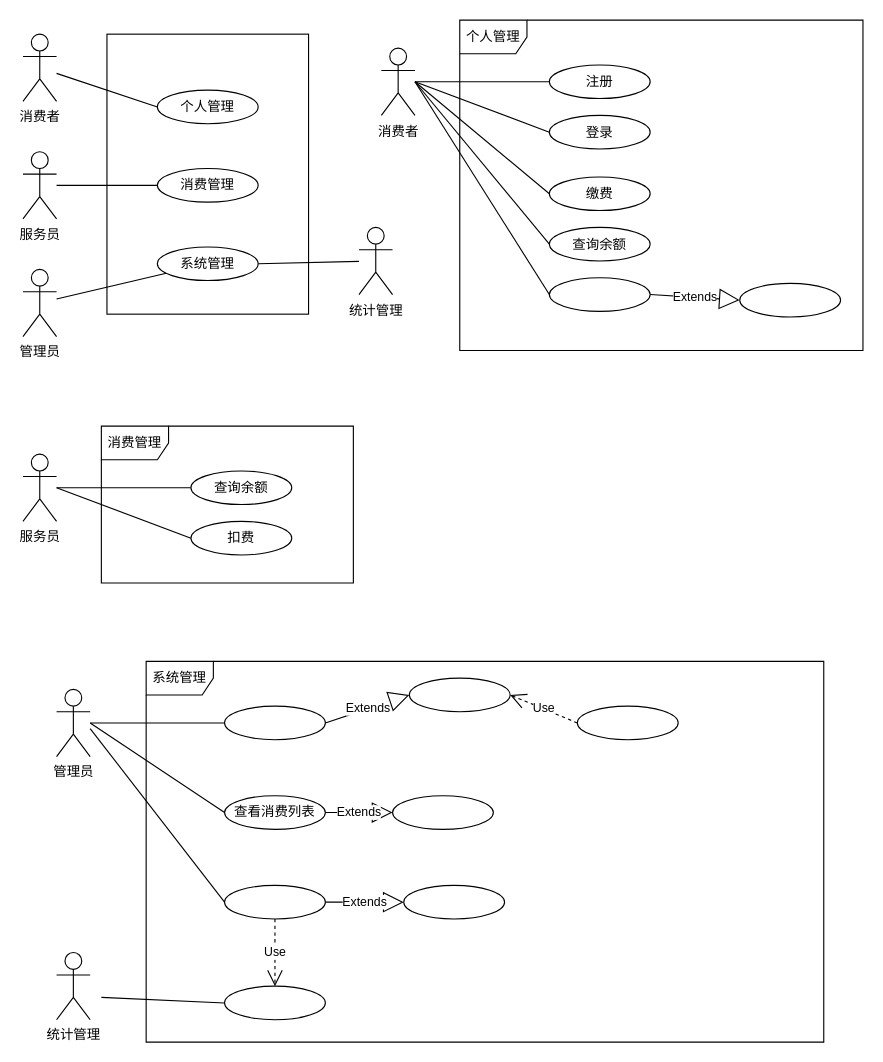
The diagram is 883 pixels wide and 1062 high, and some of its shapes have lost their labels. Here are the shapes that lost their labels. From the top down, the box of each, then its label:
(548, 277, 650, 311): 查看缴费列表
(739, 282, 841, 317): 查看缴费详情
(408, 677, 510, 712): 查看用户信息
(223, 705, 325, 740): 查看用户列表
(576, 705, 678, 740): 修改用户信息
(391, 795, 493, 829): 查看消费详情
(223, 884, 325, 919): 查看消费统计
(403, 884, 505, 919): 打印消费统计
(223, 985, 325, 1020): 生成消费统计
